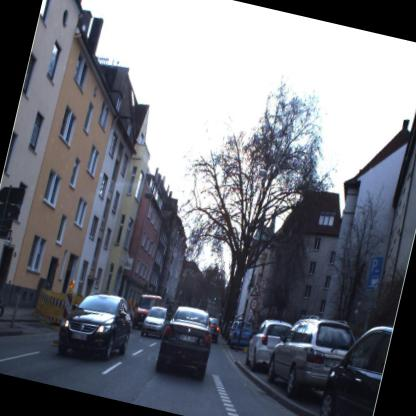danger: (247, 278, 263, 298)
prohibitory: (246, 297, 261, 316)
